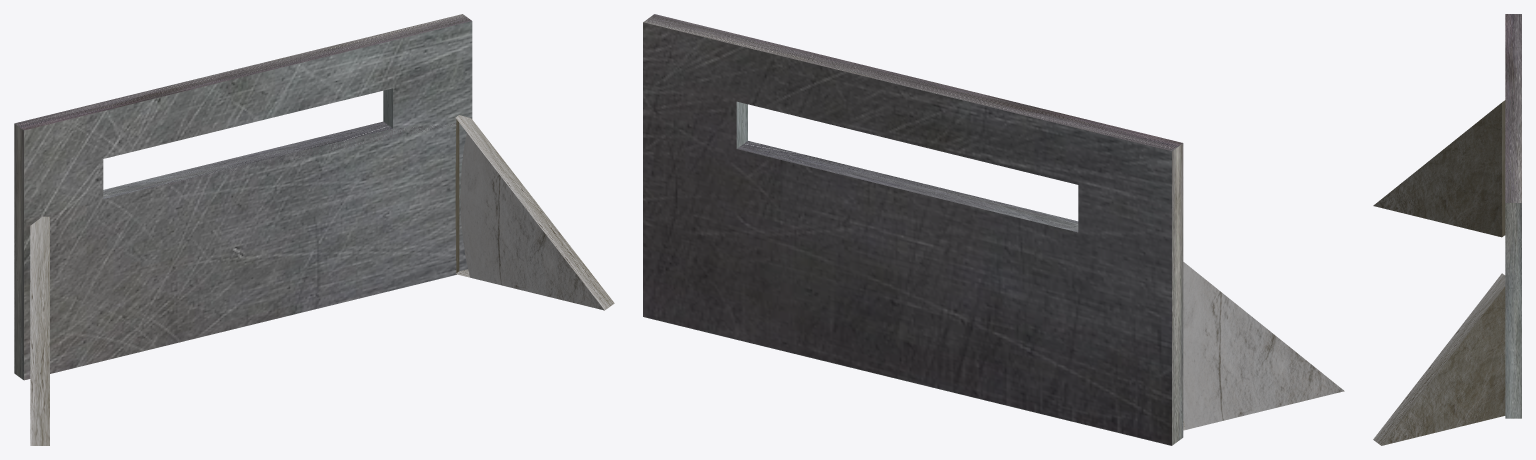
File: WeaponFrame.fbx
3 views of the same model, side by side, from view 1: azimuth 30°, elevation 25°; view 2: azimuth 150°, elevation 25°; view 3: azimuth 270°, elevation 25° (orthographic). The views are drawn at different scales.
Visible parts, largest first — view 1: Cube.002; view 2: Cube.002; view 3: Cube.002.
Boxes of the visible parts, <box> form: Cube.002: <box>14,14,614,445</box>; Cube.002: <box>643,14,1344,445</box>; Cube.002: <box>1373,14,1521,445</box>.
Size of the model in its own units: 1122 by 458 by 287.
2 materials, 2 textured.
